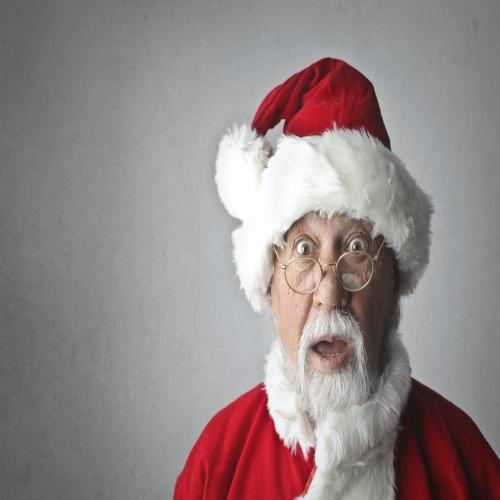Santa: (173, 56, 500, 500)
